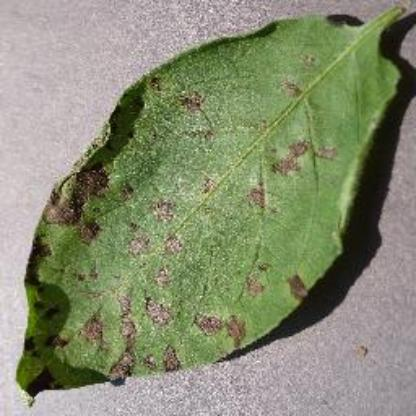Early-Blight: (16, 6, 410, 396)
